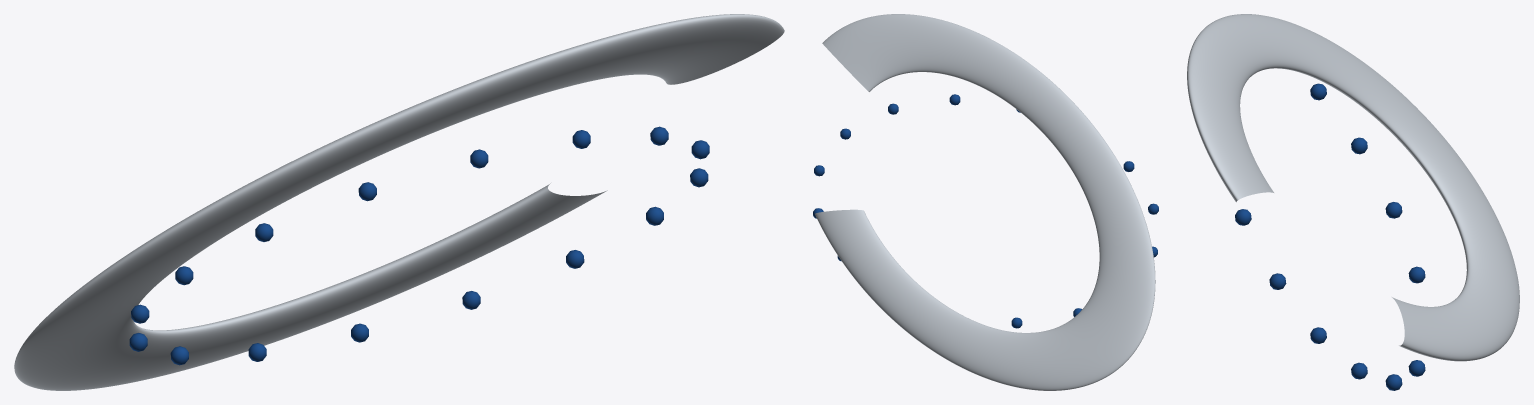
File: milan-sapphire-cuff.glb
3 views of the same model, side by side, from view 1: azimuth 30°, elevation 25°; view 2: azimuth 150°, elevation 25°; view 3: azimuth 270°, elevation 25° (orthographic). The views are drawn at different scales.
Visible parts, largest first — view 1: cuff_body; view 2: cuff_body; view 3: cuff_body.
Part boxes in pixels (left/top/right/bottom): cuff_body: left=14, top=14, right=784, bottom=390; cuff_body: left=815, top=14, right=1155, bottom=390; cuff_body: left=1187, top=14, right=1519, bottom=361.
Bounding box in the file's own units: 2.39 × 1.42 × 1.18.
